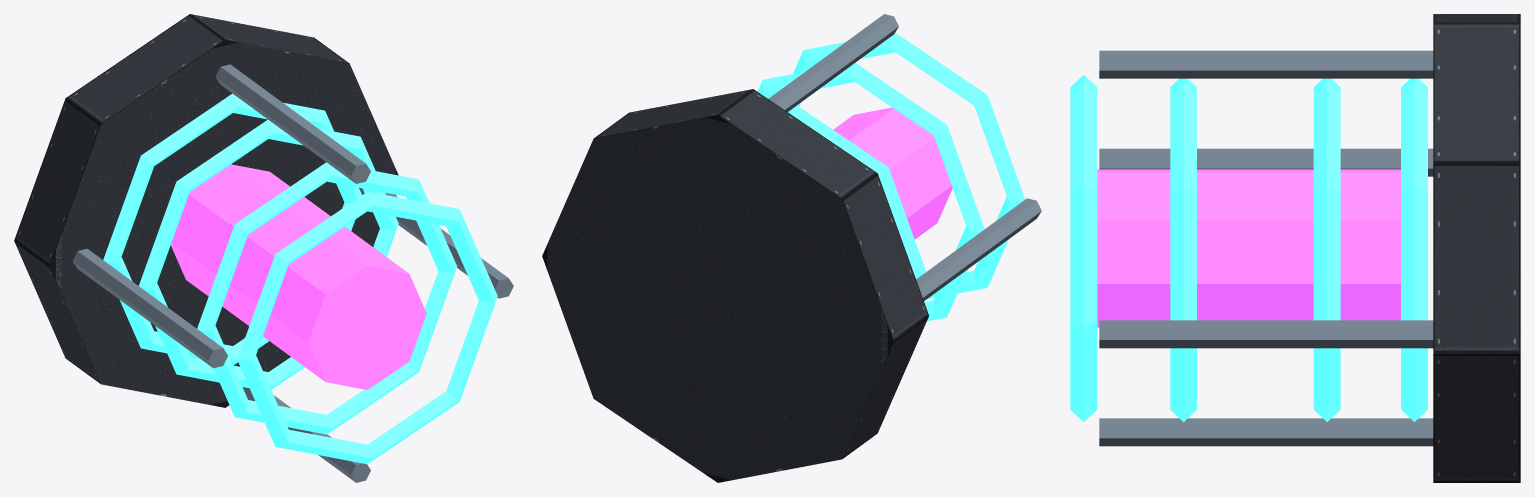
Rendered from reactor-low.glb.
3 renders of one model, left to right at view 1: azimuth 30°, elevation 25°; view 2: azimuth 150°, elevation 25°; view 3: azimuth 270°, elevation 25°, orthographic. The views are drawn at different scales.
Parts seen in each view (by area): view 1: reactor-root.001 / Ceramic graphite.015, reactor-root.001 / Cyan instrumentation.015, reactor-root.001 / Violet processing.015, reactor-root.001 / Titanium edges.015; view 2: reactor-root.001 / Ceramic graphite.015, reactor-root.001 / Cyan instrumentation.015, reactor-root.001 / Violet processing.015, reactor-root.001 / Titanium edges.015; view 3: reactor-root.001 / Ceramic graphite.015, reactor-root.001 / Violet processing.015, reactor-root.001 / Titanium edges.015, reactor-root.001 / Cyan instrumentation.015.
Boxes of the visible parts, x1,y1,x2,y2 form: reactor-root.001 / Ceramic graphite.015: (14, 14, 398, 407); reactor-root.001 / Cyan instrumentation.015: (103, 93, 497, 464); reactor-root.001 / Violet processing.015: (171, 164, 426, 389); reactor-root.001 / Titanium edges.015: (73, 64, 513, 482); reactor-root.001 / Ceramic graphite.015: (542, 89, 928, 482); reactor-root.001 / Cyan instrumentation.015: (757, 32, 1025, 321); reactor-root.001 / Violet processing.015: (833, 107, 952, 239); reactor-root.001 / Titanium edges.015: (768, 14, 1041, 300); reactor-root.001 / Ceramic graphite.015: (1433, 14, 1520, 482); reactor-root.001 / Violet processing.015: (1097, 169, 1400, 327); reactor-root.001 / Titanium edges.015: (1099, 50, 1433, 446); reactor-root.001 / Cyan instrumentation.015: (1070, 75, 1427, 421).
Size of the model in its own units: 1.6 by 1.6 by 1.44.
Materials: 4 (1 with a texture image).
